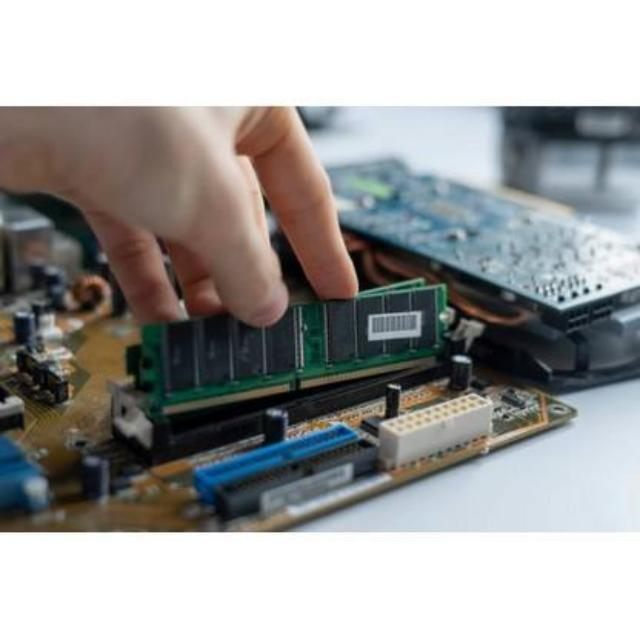RAM: (133, 269, 458, 423)
